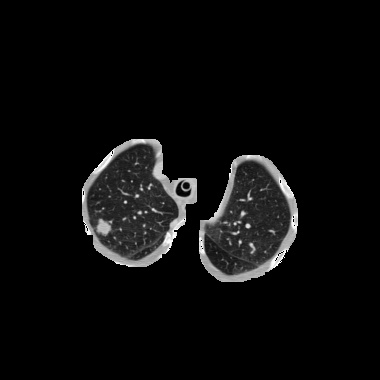PN: (95, 220, 111, 236)
